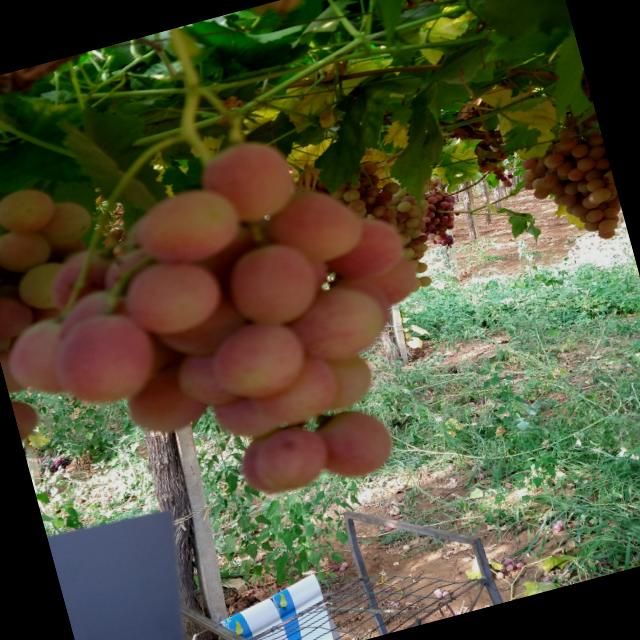grapes: (46, 302, 166, 418), (124, 179, 248, 274), (219, 236, 325, 336), (192, 131, 300, 229), (283, 276, 393, 372), (118, 251, 228, 345), (258, 180, 370, 272), (205, 316, 312, 408), (2, 308, 100, 404), (234, 348, 344, 432), (147, 284, 254, 365), (302, 400, 400, 488), (117, 356, 216, 442), (322, 248, 426, 320), (47, 240, 135, 324), (316, 208, 410, 284), (250, 418, 337, 496), (190, 224, 272, 306), (295, 342, 380, 418), (52, 284, 137, 358), (235, 425, 312, 502), (172, 340, 248, 412), (210, 378, 292, 444), (95, 240, 171, 303), (12, 255, 82, 316), (34, 194, 99, 251), (0, 181, 59, 240), (0, 220, 54, 276), (0, 340, 43, 394), (0, 287, 37, 342), (10, 394, 44, 440), (488, 140, 510, 162), (555, 125, 580, 144), (556, 134, 580, 152), (544, 150, 566, 169), (372, 187, 395, 205), (571, 200, 594, 218), (596, 217, 620, 234), (574, 155, 596, 173), (566, 164, 588, 182), (0, 320, 12, 352), (560, 112, 584, 128), (358, 160, 379, 178), (539, 172, 560, 190), (586, 175, 608, 192), (380, 178, 400, 196), (568, 117, 592, 132), (570, 142, 590, 160), (585, 144, 606, 161), (584, 207, 605, 224), (580, 193, 601, 210), (345, 198, 367, 214), (582, 217, 604, 233), (558, 190, 578, 207), (576, 177, 596, 194), (556, 159, 576, 176), (546, 180, 566, 197), (530, 163, 550, 180), (341, 186, 362, 202), (581, 126, 602, 142), (363, 182, 381, 200), (552, 190, 571, 207), (563, 179, 582, 196), (532, 183, 551, 200), (328, 184, 348, 200), (564, 200, 584, 216), (591, 187, 612, 202), (584, 134, 604, 149), (597, 225, 617, 240), (521, 168, 542, 182), (344, 176, 362, 192), (556, 142, 574, 158), (530, 174, 548, 190), (584, 167, 604, 181), (416, 273, 433, 289), (381, 205, 398, 221), (593, 156, 610, 172), (587, 189, 604, 205), (363, 172, 381, 187), (523, 178, 542, 192), (413, 258, 429, 274), (396, 230, 412, 246), (406, 202, 422, 218), (390, 186, 408, 200), (600, 188, 618, 202), (555, 168, 573, 182), (354, 174, 370, 189), (350, 182, 366, 197), (578, 212, 598, 224), (351, 204, 368, 218), (602, 206, 619, 220), (602, 213, 620, 226), (592, 200, 611, 212), (370, 202, 386, 216), (522, 156, 538, 170), (605, 196, 621, 210), (534, 160, 550, 174), (404, 215, 421, 228), (385, 195, 402, 208), (393, 210, 409, 223), (544, 142, 561, 154), (584, 108, 598, 122), (409, 275, 422, 290), (399, 245, 414, 258), (414, 242, 430, 254), (410, 218, 426, 230), (396, 200, 412, 212), (401, 194, 416, 206), (409, 238, 423, 250), (364, 192, 378, 204), (602, 170, 614, 184), (605, 182, 617, 196), (408, 283, 422, 294), (413, 233, 427, 244), (394, 220, 406, 232), (382, 522, 394, 534), (408, 228, 422, 238), (400, 225, 414, 235), (492, 570, 506, 580), (544, 168, 558, 178), (412, 249, 424, 260), (608, 204, 621, 214), (551, 522, 563, 532), (438, 214, 450, 224), (604, 162, 612, 176), (612, 194, 620, 208), (426, 194, 437, 204), (400, 543, 412, 552), (424, 210, 436, 219), (418, 224, 428, 234), (430, 216, 440, 226), (608, 187, 618, 197), (515, 561, 526, 570), (421, 214, 432, 223), (425, 202, 436, 211), (494, 172, 506, 180), (407, 249, 417, 258), (435, 590, 444, 600), (515, 523, 525, 532), (491, 167, 501, 176), (426, 222, 436, 231), (444, 218, 454, 227), (498, 564, 509, 572), (431, 176, 442, 184), (439, 232, 450, 240), (438, 200, 449, 208), (432, 222, 441, 231), (340, 560, 350, 568), (554, 518, 564, 526), (502, 180, 512, 188), (430, 179, 440, 187), (426, 232, 436, 240), (438, 222, 448, 230), (428, 205, 438, 213), (435, 210, 445, 218), (443, 195, 453, 203), (442, 589, 451, 597), (498, 164, 506, 173), (431, 188, 440, 196), (443, 201, 452, 209), (599, 136, 605, 148), (488, 164, 498, 171), (444, 215, 454, 222), (426, 191, 436, 198), (436, 205, 446, 212), (435, 194, 443, 202), (446, 210, 454, 218), (446, 200, 454, 208), (445, 238, 454, 245), (433, 233, 442, 240), (423, 218, 432, 225), (432, 588, 442, 594), (506, 564, 514, 571), (441, 238, 448, 246), (446, 235, 454, 242), (446, 222, 454, 229), (434, 200, 441, 208), (448, 197, 456, 204), (504, 558, 513, 564), (338, 566, 346, 572), (506, 173, 514, 179), (428, 183, 434, 191), (436, 238, 444, 244), (438, 226, 446, 232), (444, 234, 453, 239), (501, 176, 508, 182), (448, 206, 454, 212), (448, 194, 454, 200), (442, 191, 448, 197), (424, 206, 429, 213), (424, 191, 431, 196), (438, 230, 446, 234), (507, 182, 513, 187), (426, 229, 431, 234), (454, 212, 460, 216)
